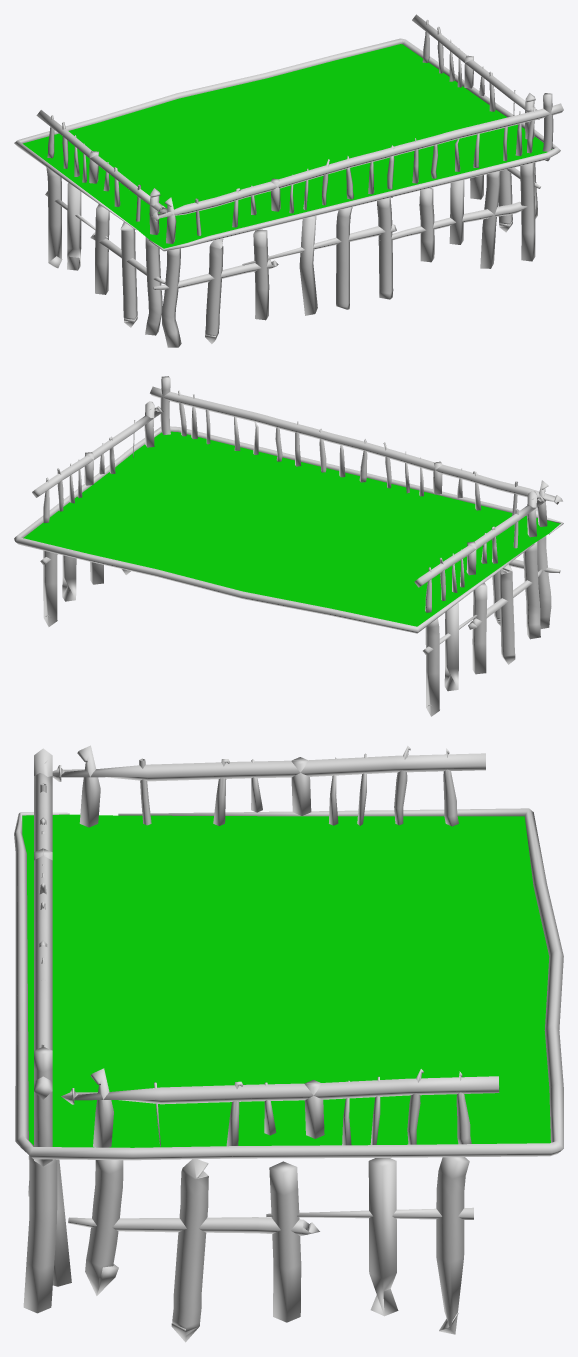
File: stilt1.fbx
3 views of the same model, one above another, from view 1: azimuth 30°, elevation 25°; view 2: azimuth 150°, elevation 25°; view 3: azimuth 270°, elevation 25° (orthographic). The views are drawn at different scales.
Parts seen in each view (by area): view 1: GP_Layer; view 2: GP_Layer; view 3: GP_Layer.
Part boxes in pixels (<box>): GP_Layer: <box>14,14,563,347</box>; GP_Layer: <box>14,376,563,716</box>; GP_Layer: <box>14,745,563,1342</box>.
Bounding box in the file's own units: 715 × 278 × 474.
